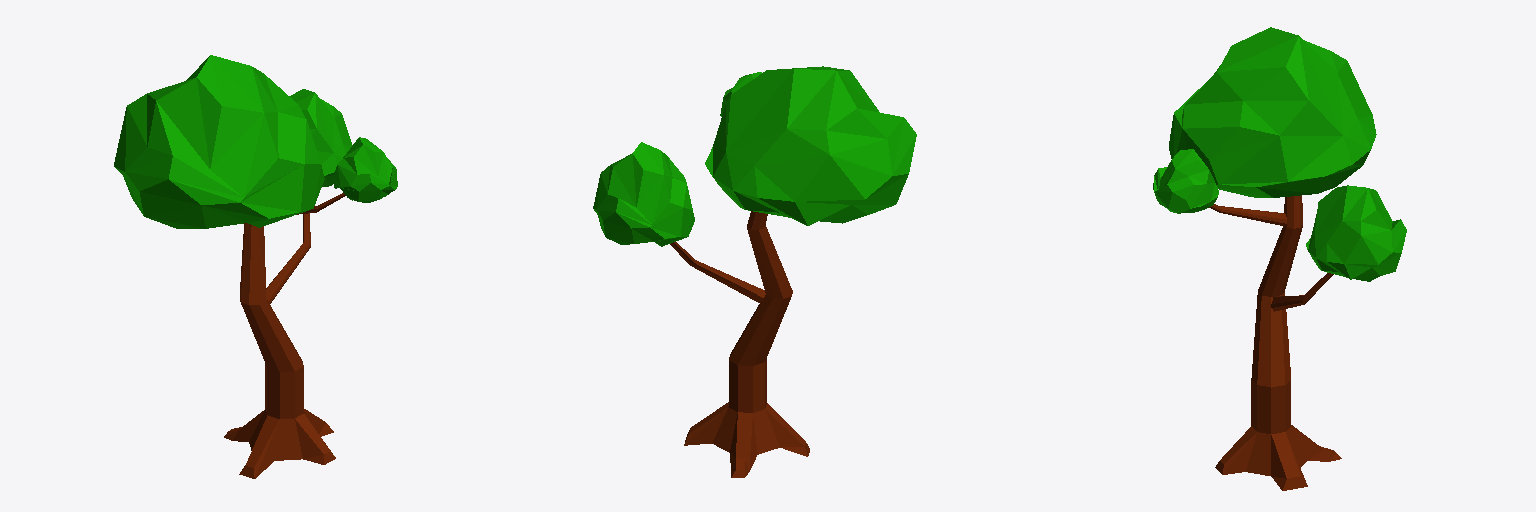
Rendered from arbolAlto.obj.
The picture shows the model from 3 angles: view 1: azimuth 30°, elevation 25°; view 2: azimuth 150°, elevation 25°; view 3: azimuth 270°, elevation 25°; orthographic projection.
Parts seen in each view (by area): view 1: piccolo2, Cylinder, piccolo_1, piccolo; view 2: piccolo2, Cylinder, piccolo; view 3: piccolo2, Cylinder, piccolo, piccolo_1.
Part boxes in pixels (x1,y1,x2,y2): piccolo2: (114,55,324,228); Cylinder: (224,193,345,478); piccolo_1: (333,137,397,202); piccolo: (289,89,352,186); piccolo2: (705,66,916,225); Cylinder: (670,211,809,477); piccolo: (593,142,694,246); piccolo2: (1169,27,1376,197); Cylinder: (1209,195,1341,490); piccolo: (1306,185,1406,281); piccolo_1: (1153,149,1218,213).
Bounding box in the file's own units: 74.01 × 111 × 63.21.